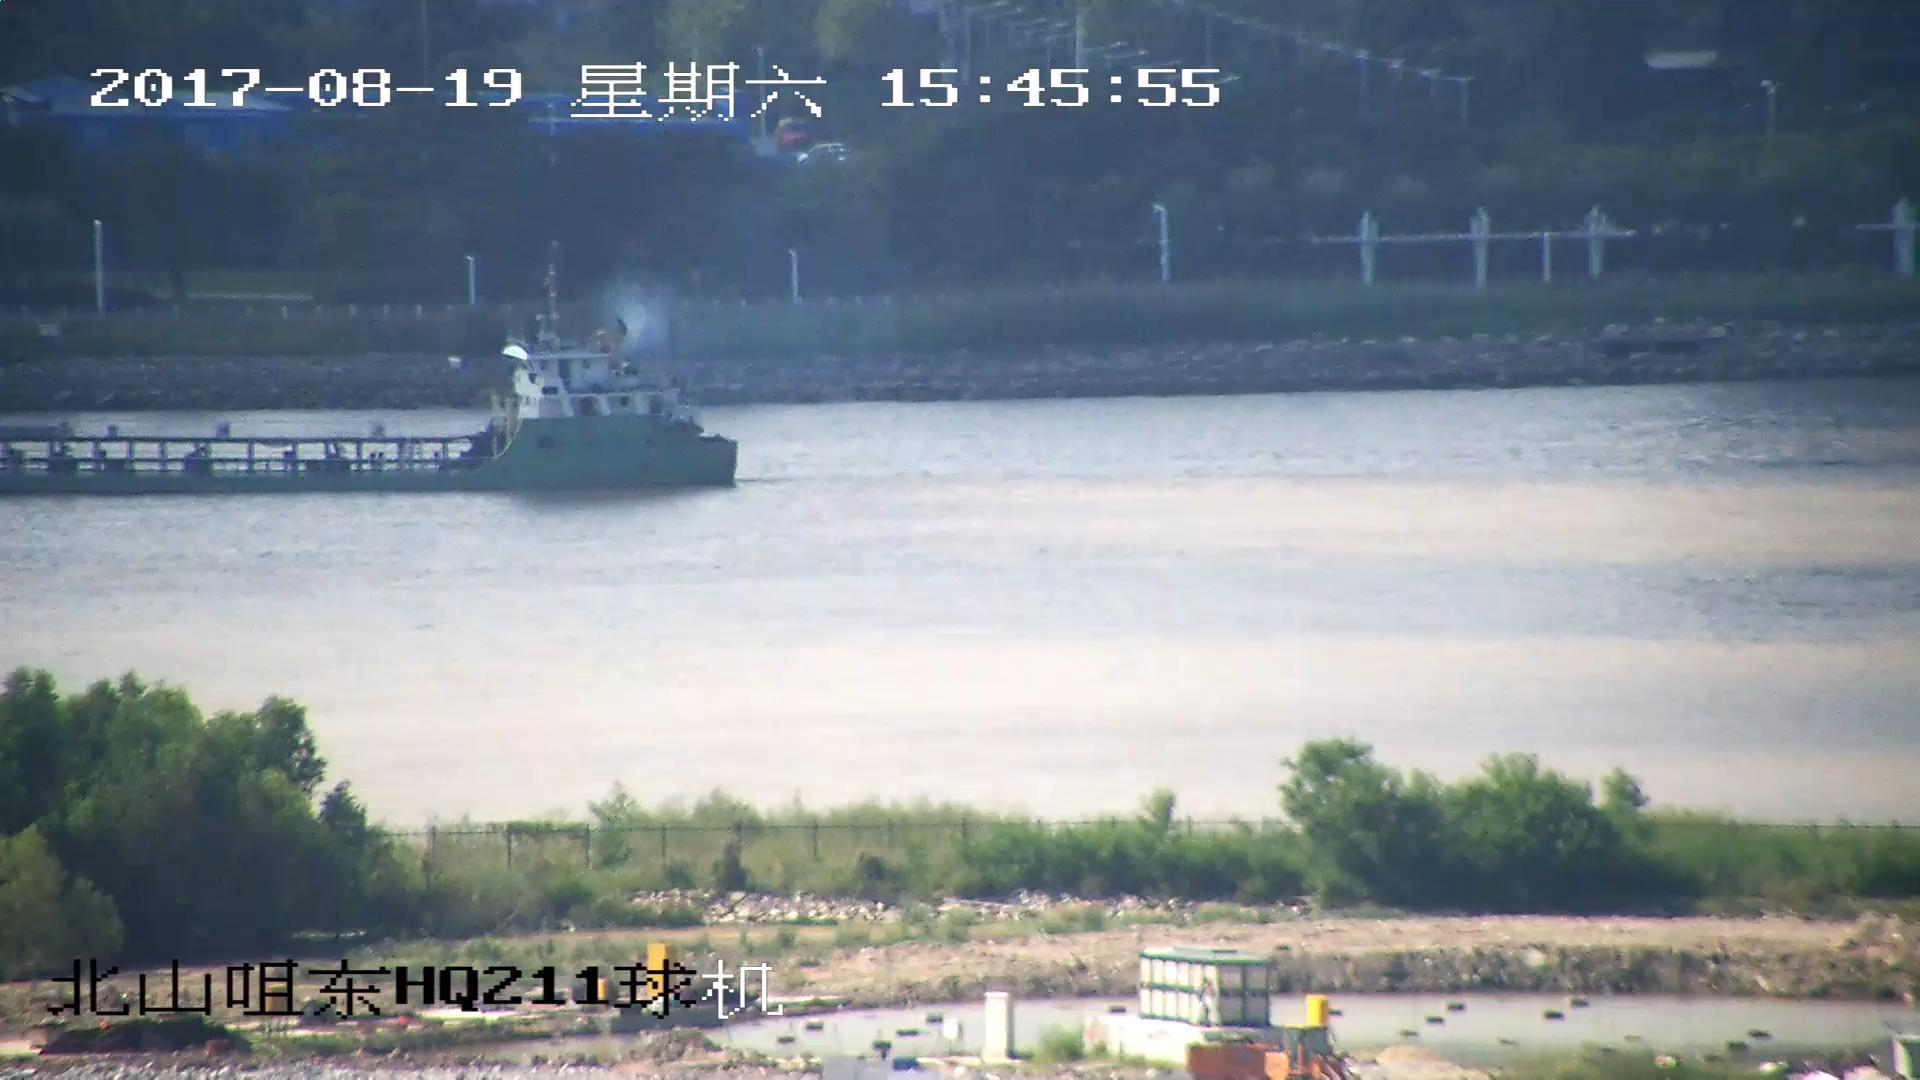Ship: (3, 274, 740, 489)
